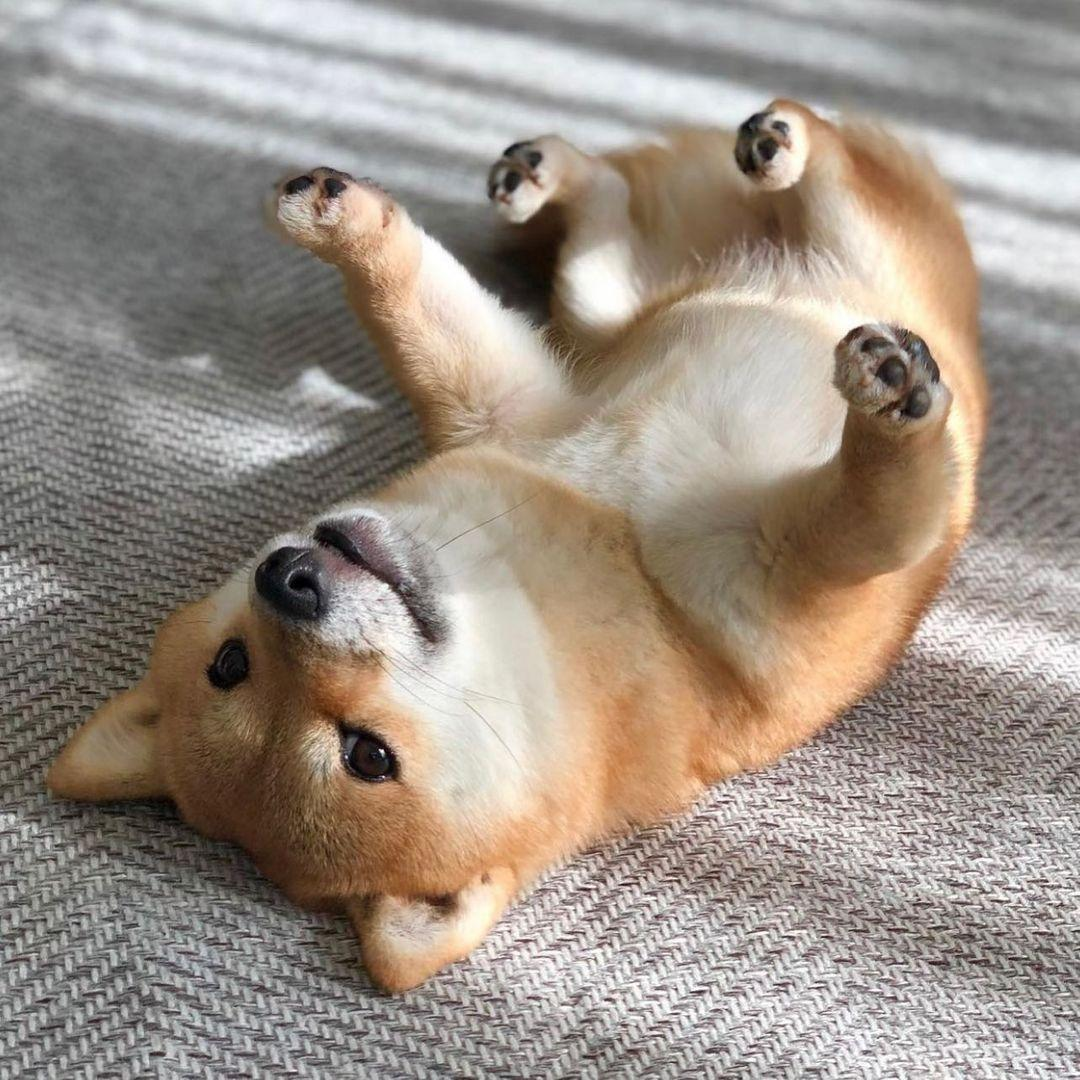puppy-dog: (40, 89, 991, 1004)
